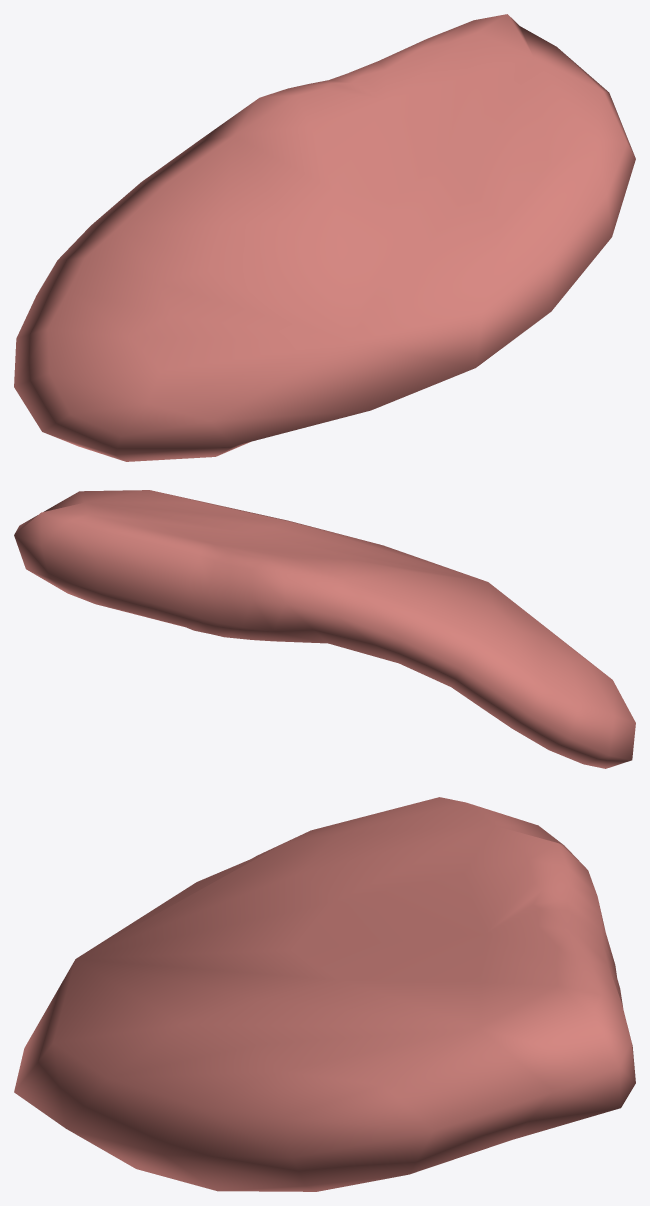
3 views of the same model, one above another, from view 1: azimuth 30°, elevation 25°; view 2: azimuth 150°, elevation 25°; view 3: azimuth 270°, elevation 25° (orthographic). The views are drawn at different scales.
Parts seen in each view (by area): view 1: ZA_2ddac555929e0804; view 2: ZA_2ddac555929e0804; view 3: ZA_2ddac555929e0804.
Part boxes in pixels (box(x1,y1,x2,y2)): ZA_2ddac555929e0804: box(14, 14, 635, 461); ZA_2ddac555929e0804: box(14, 490, 635, 768); ZA_2ddac555929e0804: box(14, 797, 635, 1191).
Bounding box in the file's own units: 0.00358 × 0.0013 × 0.00208.
